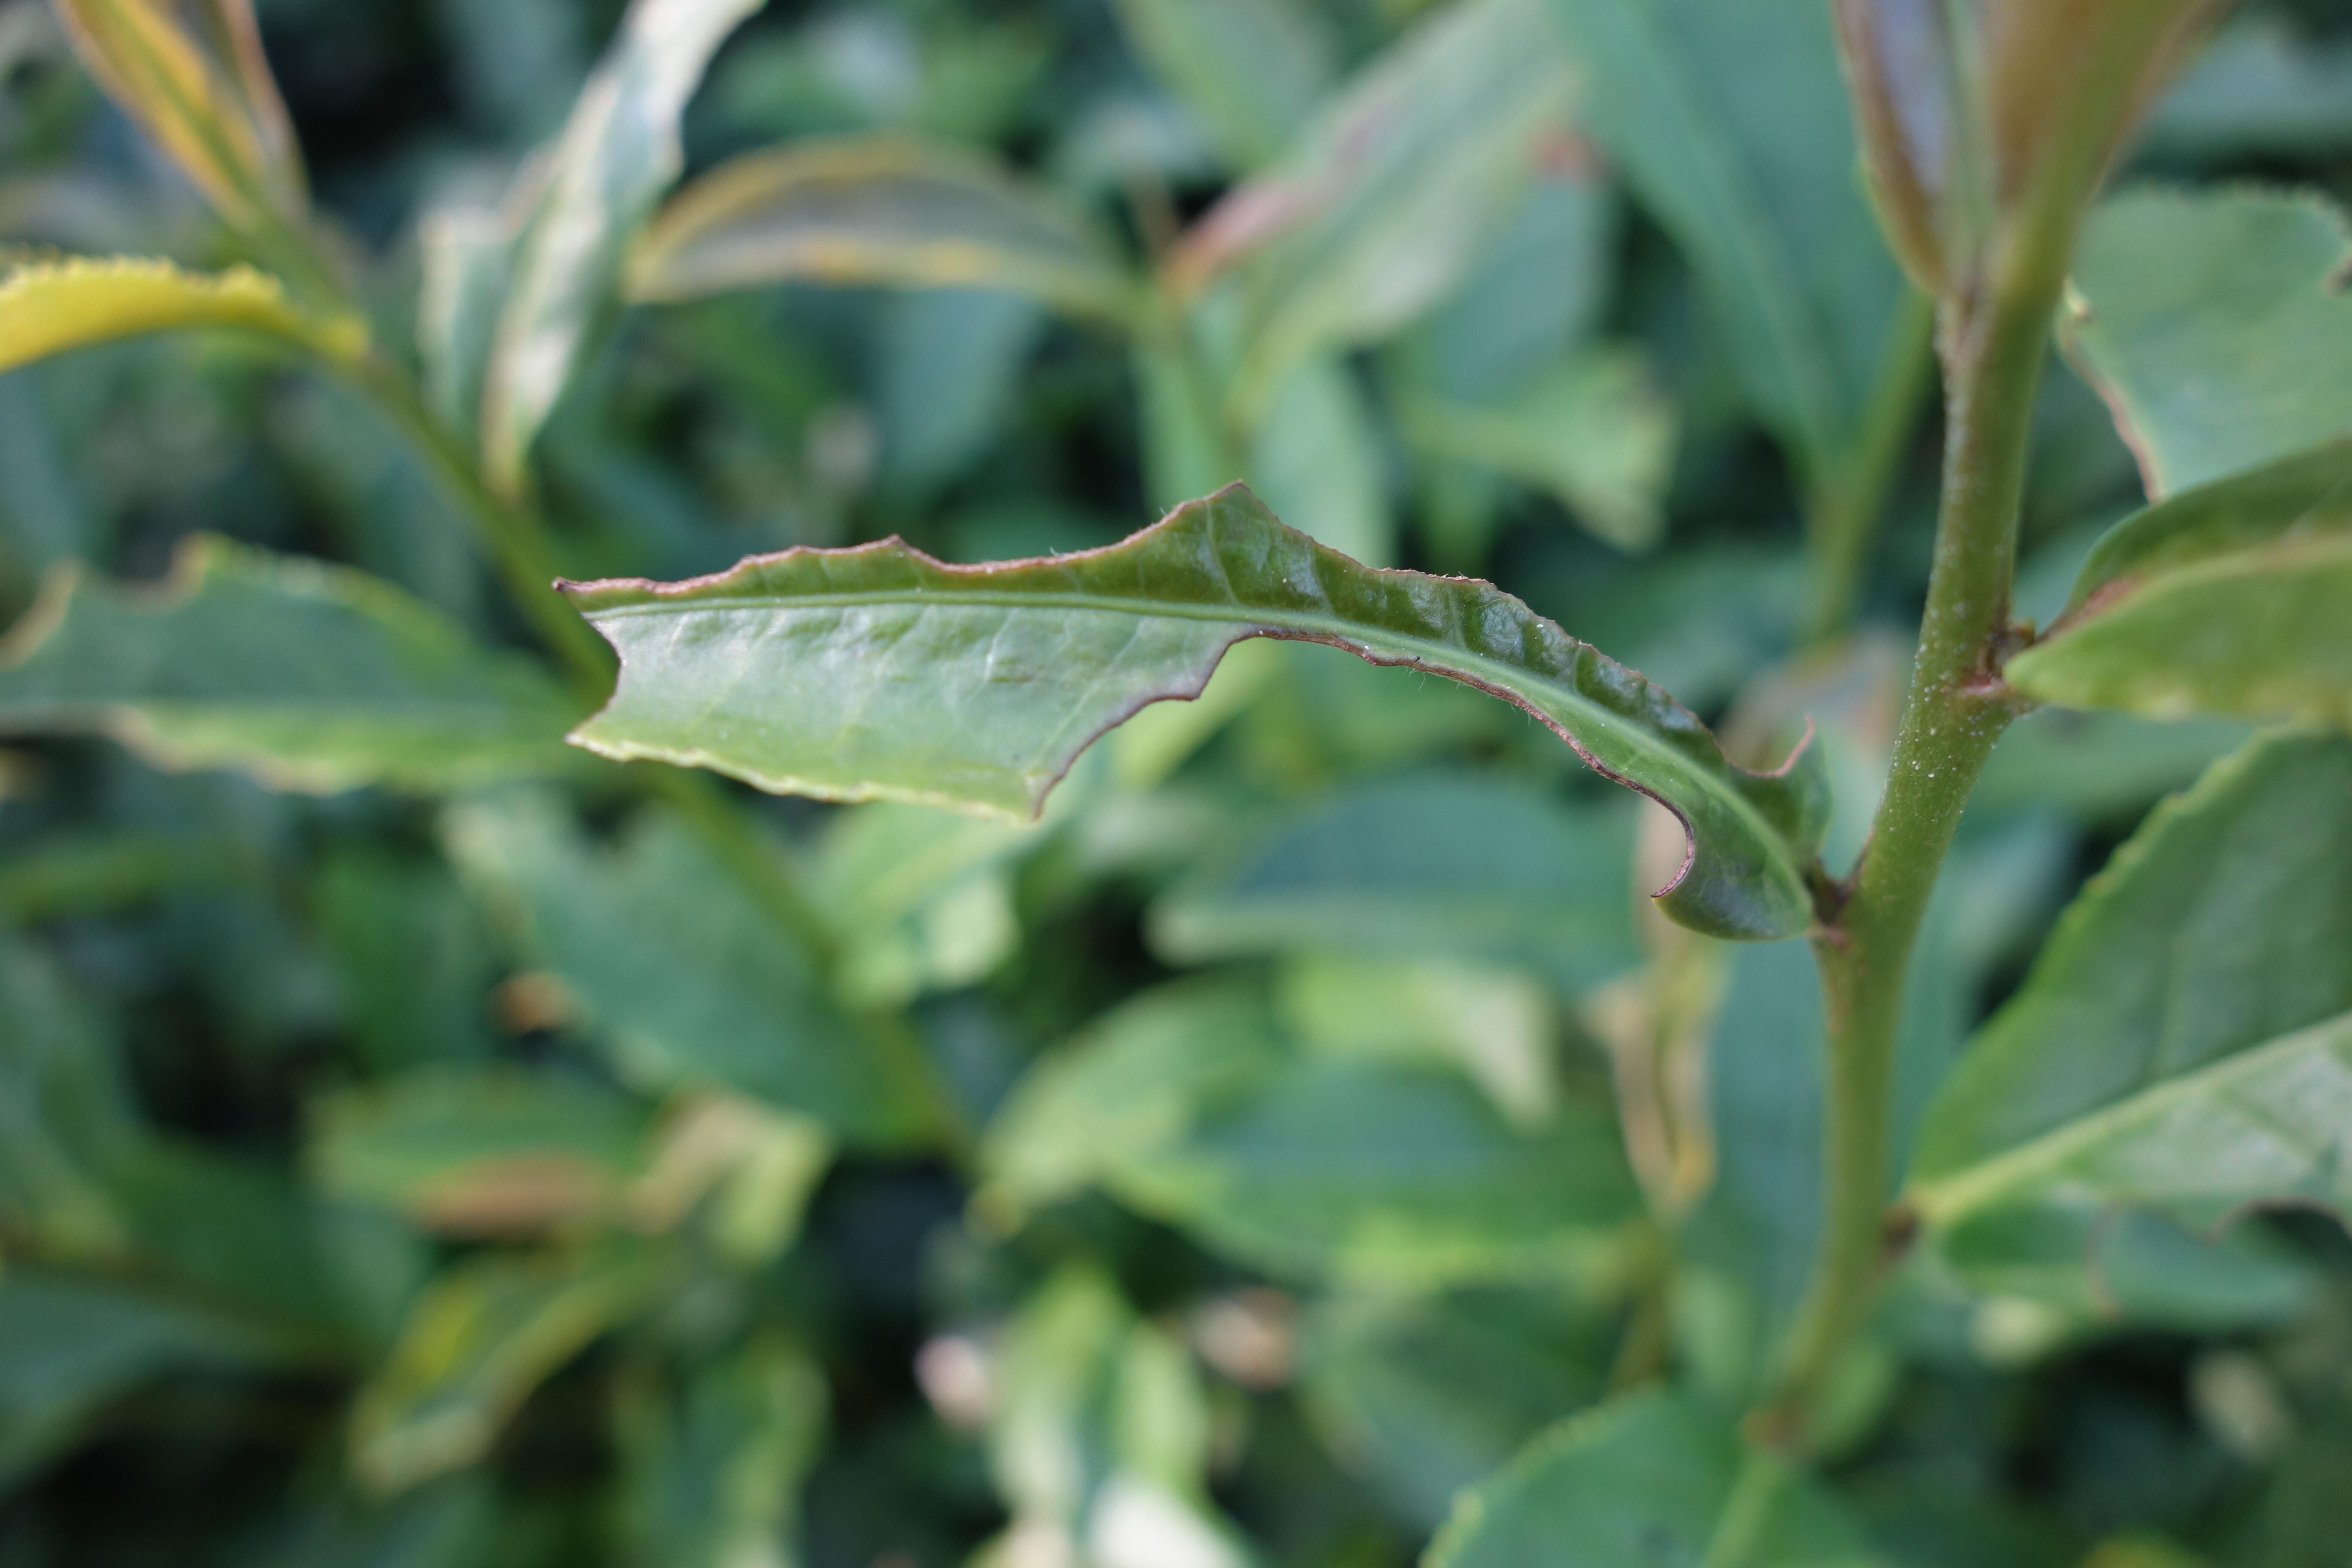chihuo_high: (555, 478, 1836, 941)
